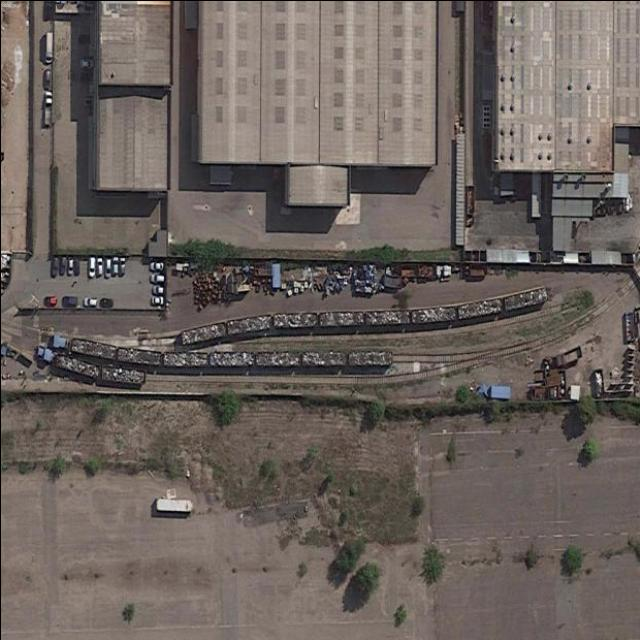dump_site: (55, 351, 101, 378), (503, 285, 548, 311), (180, 320, 225, 345), (457, 296, 502, 319), (70, 336, 115, 358), (226, 313, 271, 335), (322, 263, 351, 294), (101, 364, 146, 383), (411, 304, 455, 323), (352, 260, 378, 292), (117, 346, 161, 364), (301, 349, 346, 366), (255, 351, 300, 367), (319, 310, 363, 326), (209, 351, 254, 366), (163, 351, 207, 366), (273, 311, 317, 326), (365, 310, 409, 325), (349, 350, 391, 364)
